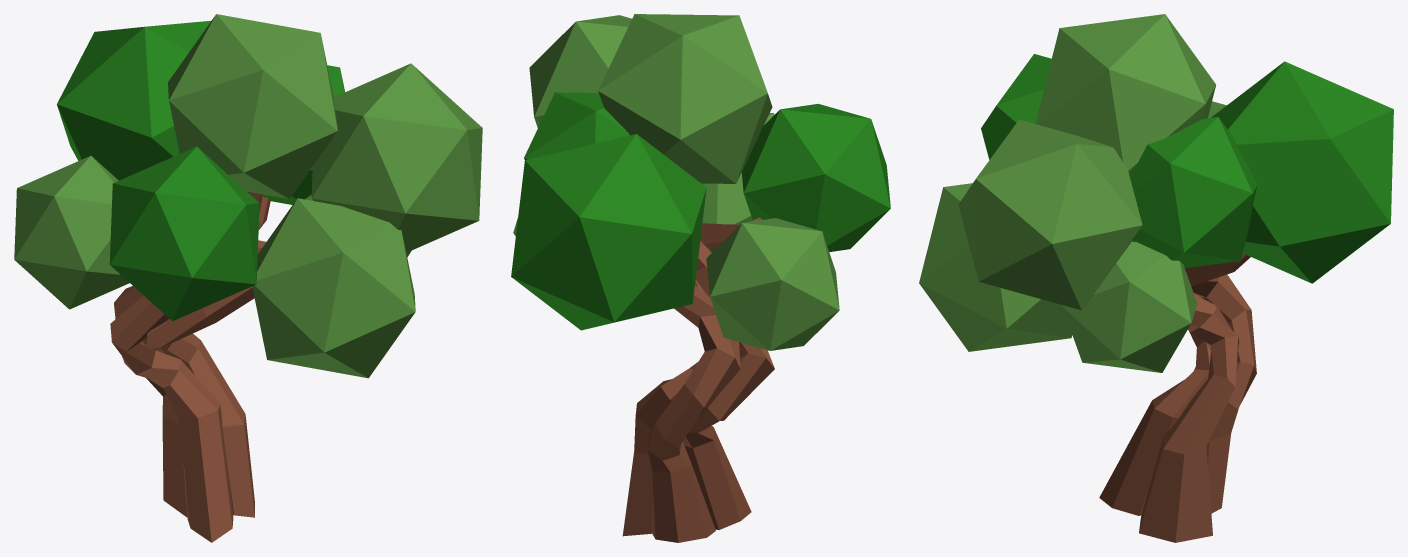
The model's file is Tree_06_summer_mat.fbx.
3 views of the same model, side by side, from view 1: azimuth 30°, elevation 25°; view 2: azimuth 150°, elevation 25°; view 3: azimuth 270°, elevation 25° (orthographic). The views are drawn at different scales.
Parts seen in each view (by area): view 1: Tree_06_summer_mat; view 2: Tree_06_summer_mat; view 3: Tree_06_summer_mat.
Boxes of the visible parts, left/top/right/bottom form: Tree_06_summer_mat: left=14, top=14, right=482, bottom=542; Tree_06_summer_mat: left=511, top=14, right=890, bottom=542; Tree_06_summer_mat: left=919, top=14, right=1393, bottom=542.
Bounding box in the file's own units: 19.52 × 23.92 × 20.29.
